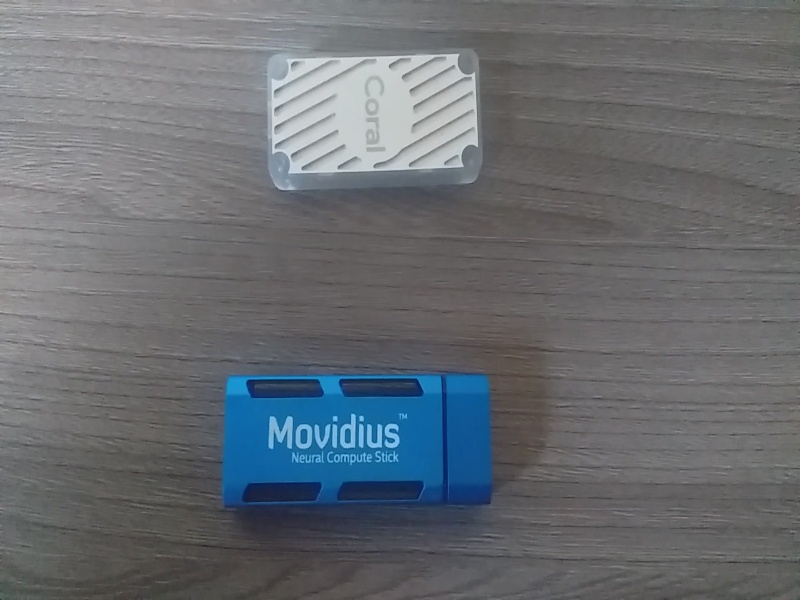coral: (258, 47, 493, 210)
movidius: (213, 364, 500, 518)
